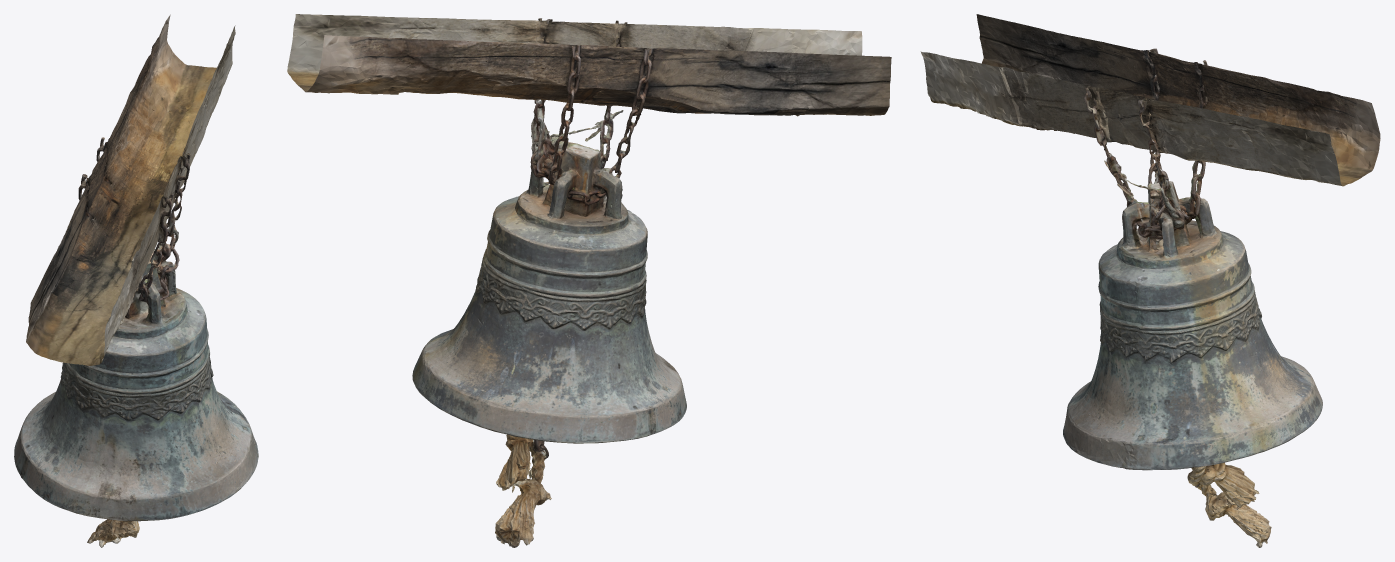
The model's file is bell.obj.
3 views of the same model, side by side, from view 1: azimuth 30°, elevation 25°; view 2: azimuth 150°, elevation 25°; view 3: azimuth 270°, elevation 25° (orthographic). The views are drawn at different scales.
Bounding box in the file's own units: 4.88 × 5.84 × 4.85.
Materials: 1 (1 with a texture image).
